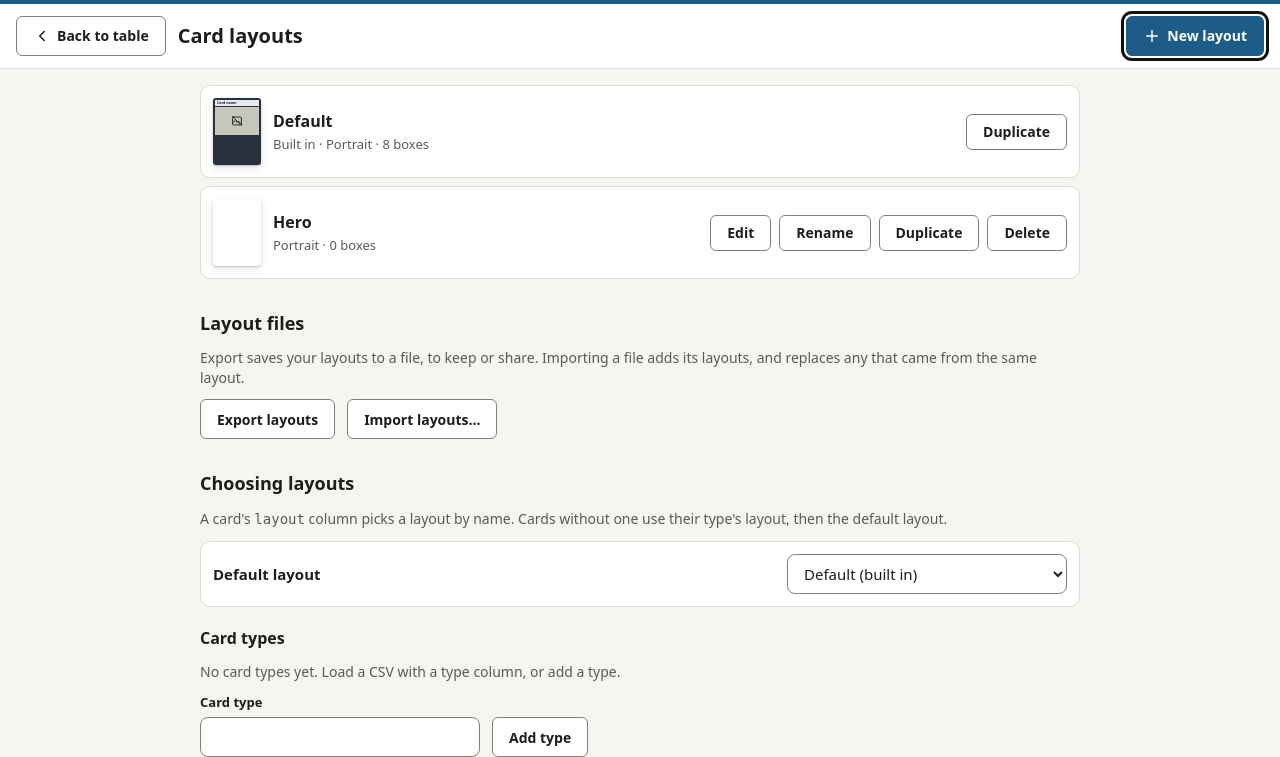
Scenario: LY-5 fixed text and colour boxes › sets fixed text, and keeps it when switching away and back
The width and height of the screenshot is (1280, 757).
Click the button with aria-label "Edit Hero" at x=741, y=232, box [710,214,771,250]
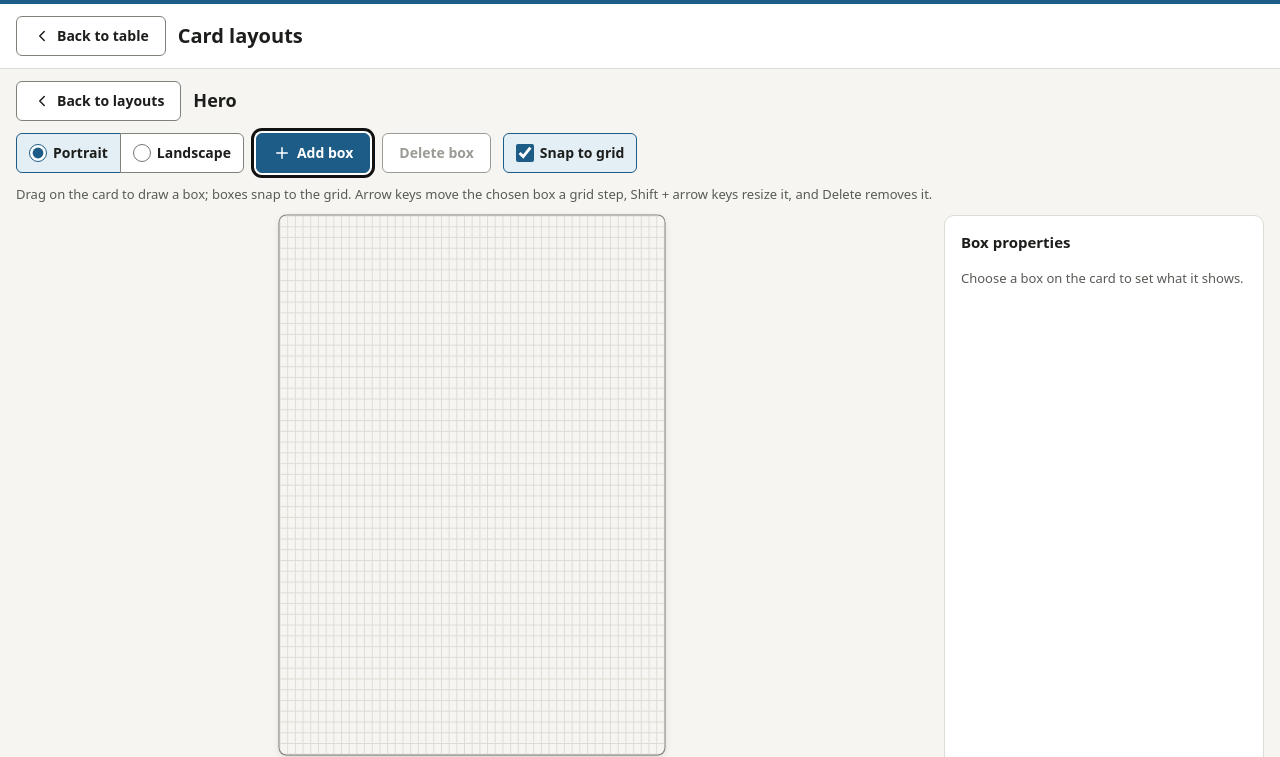
Click the button "Add box" at x=313, y=153, box [256,133,370,173]
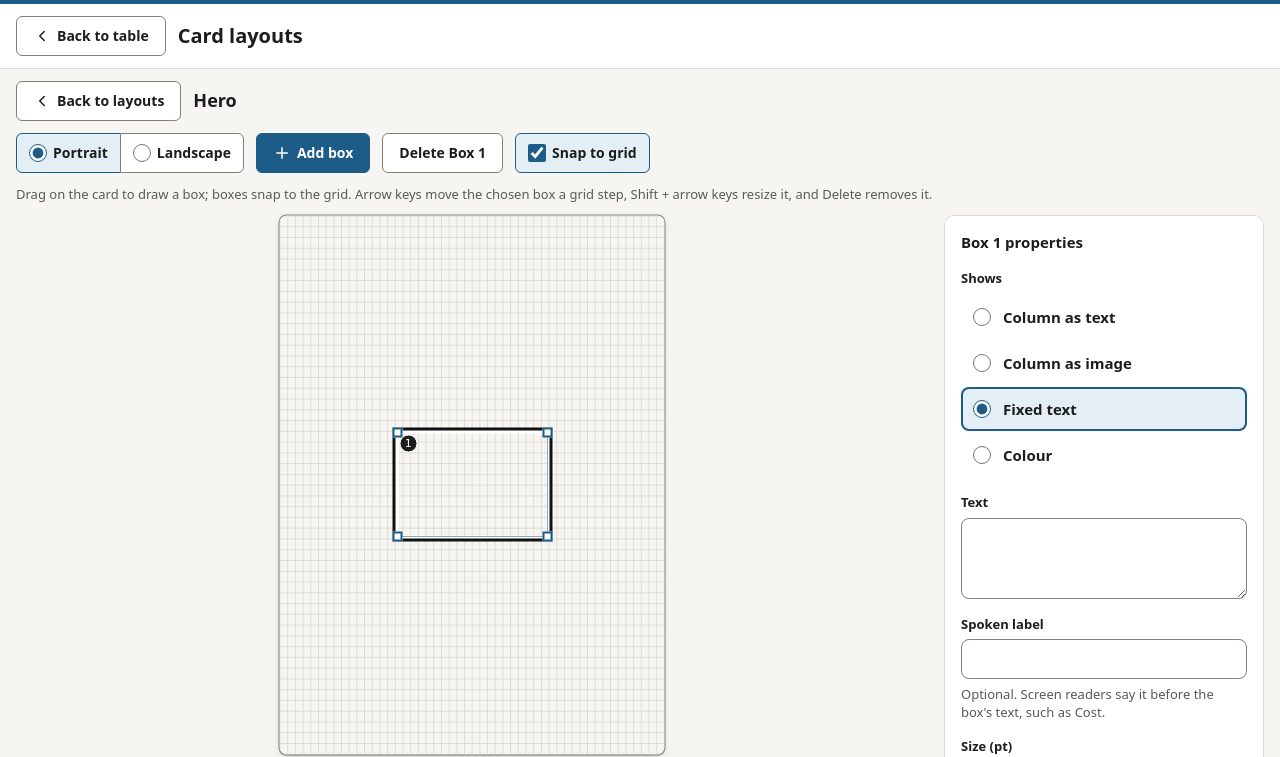
Type "Hero" into the text box labelled "Text" at x=1104, y=558, box [961,518,1247,599]
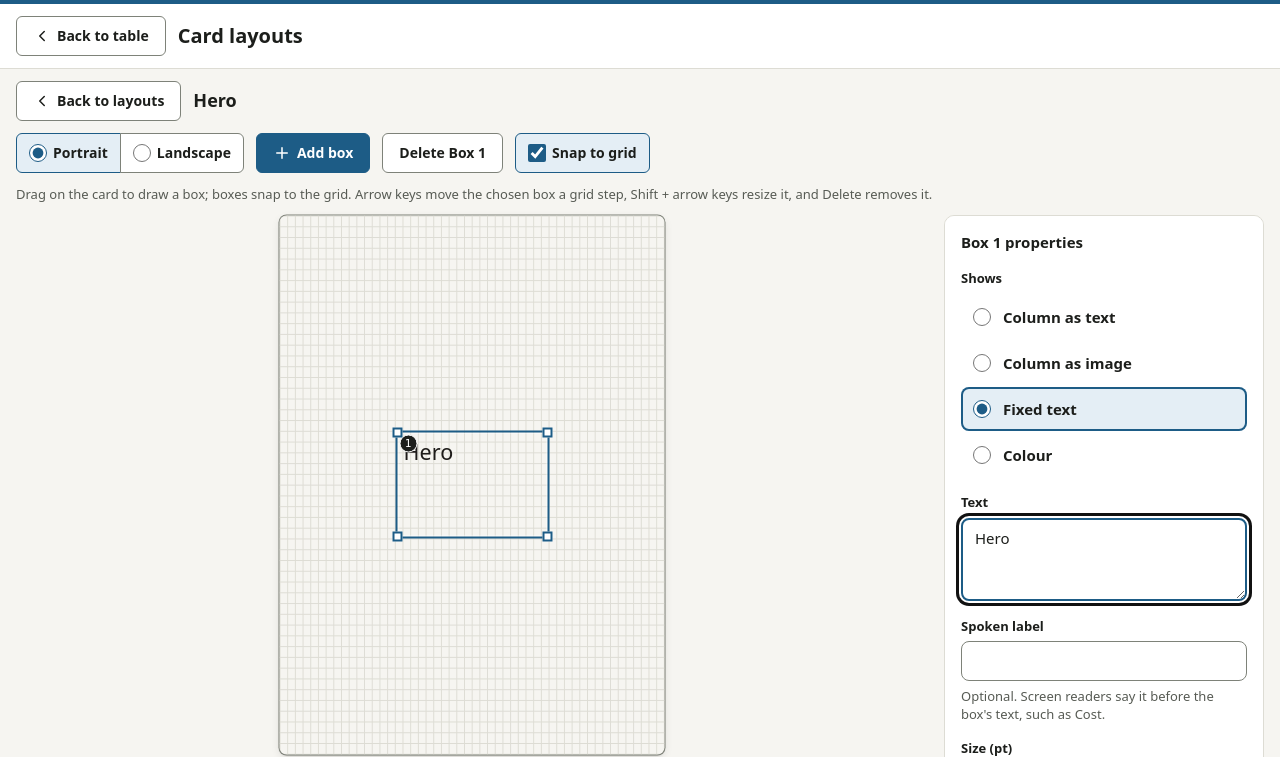
Expected: the button named "Box 1, text “Hero”, at" is shown, [397,433,547,536]
Click the radio button labelled "Column as text" at x=982, y=317, box [973,308,991,326]
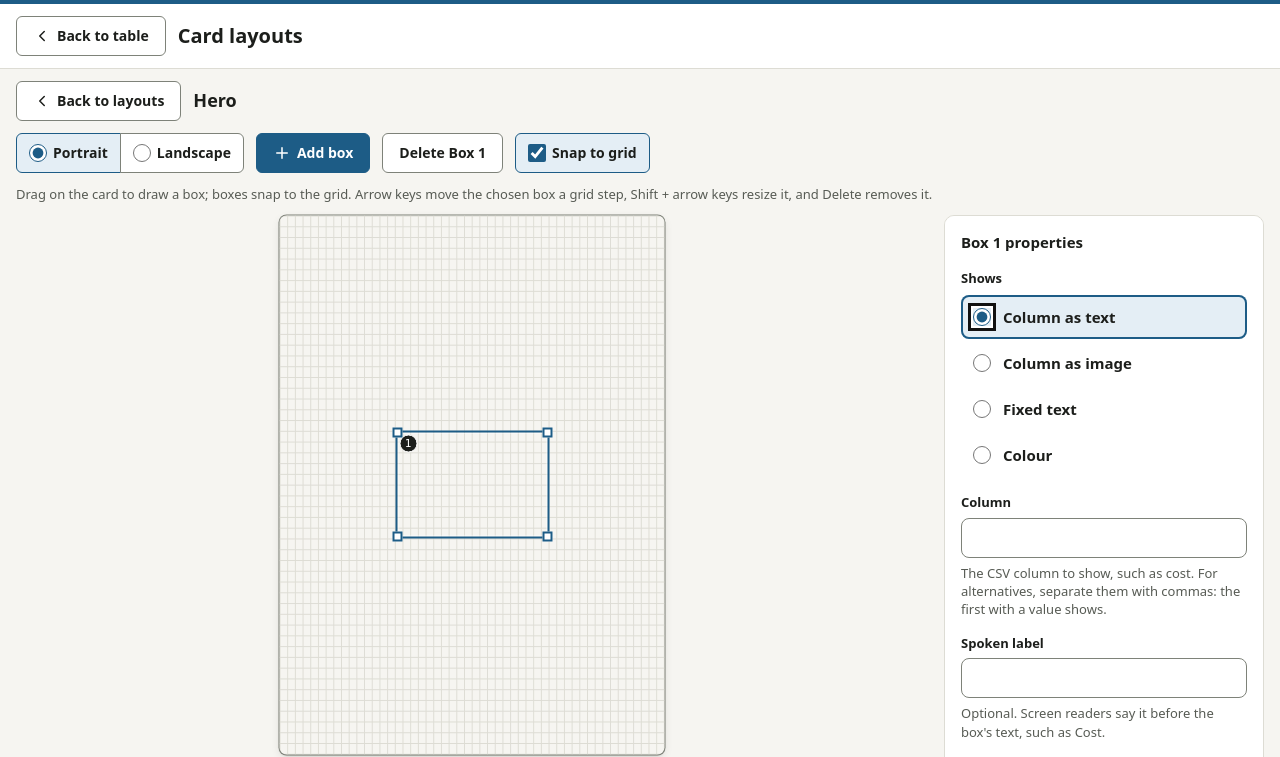
Click the radio button labelled "Fixed text" at x=982, y=409, box [973,400,991,418]
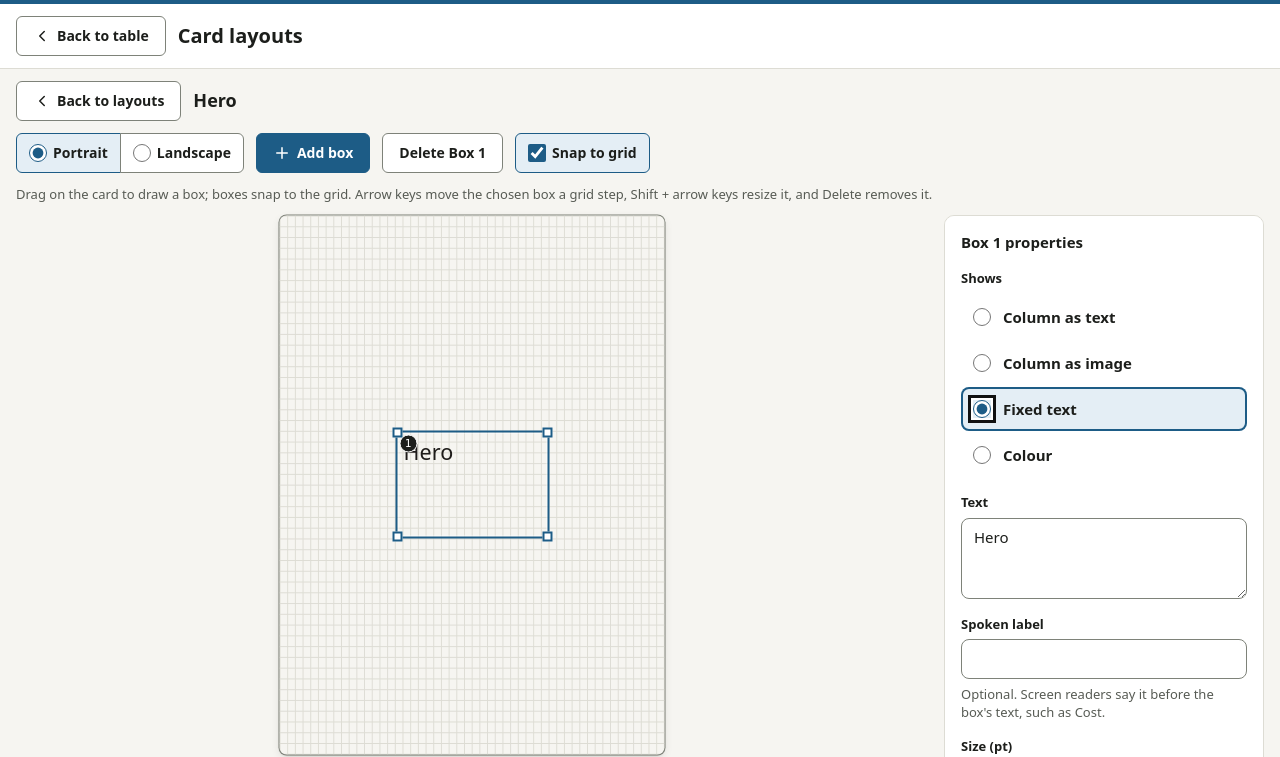
Expected: the text box labelled "Text" holds "Hero", [961,518,1247,599]
